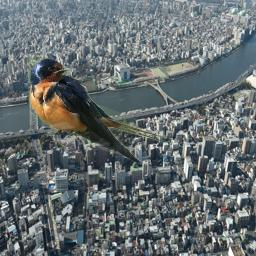Swallow: (28, 56, 168, 163)
